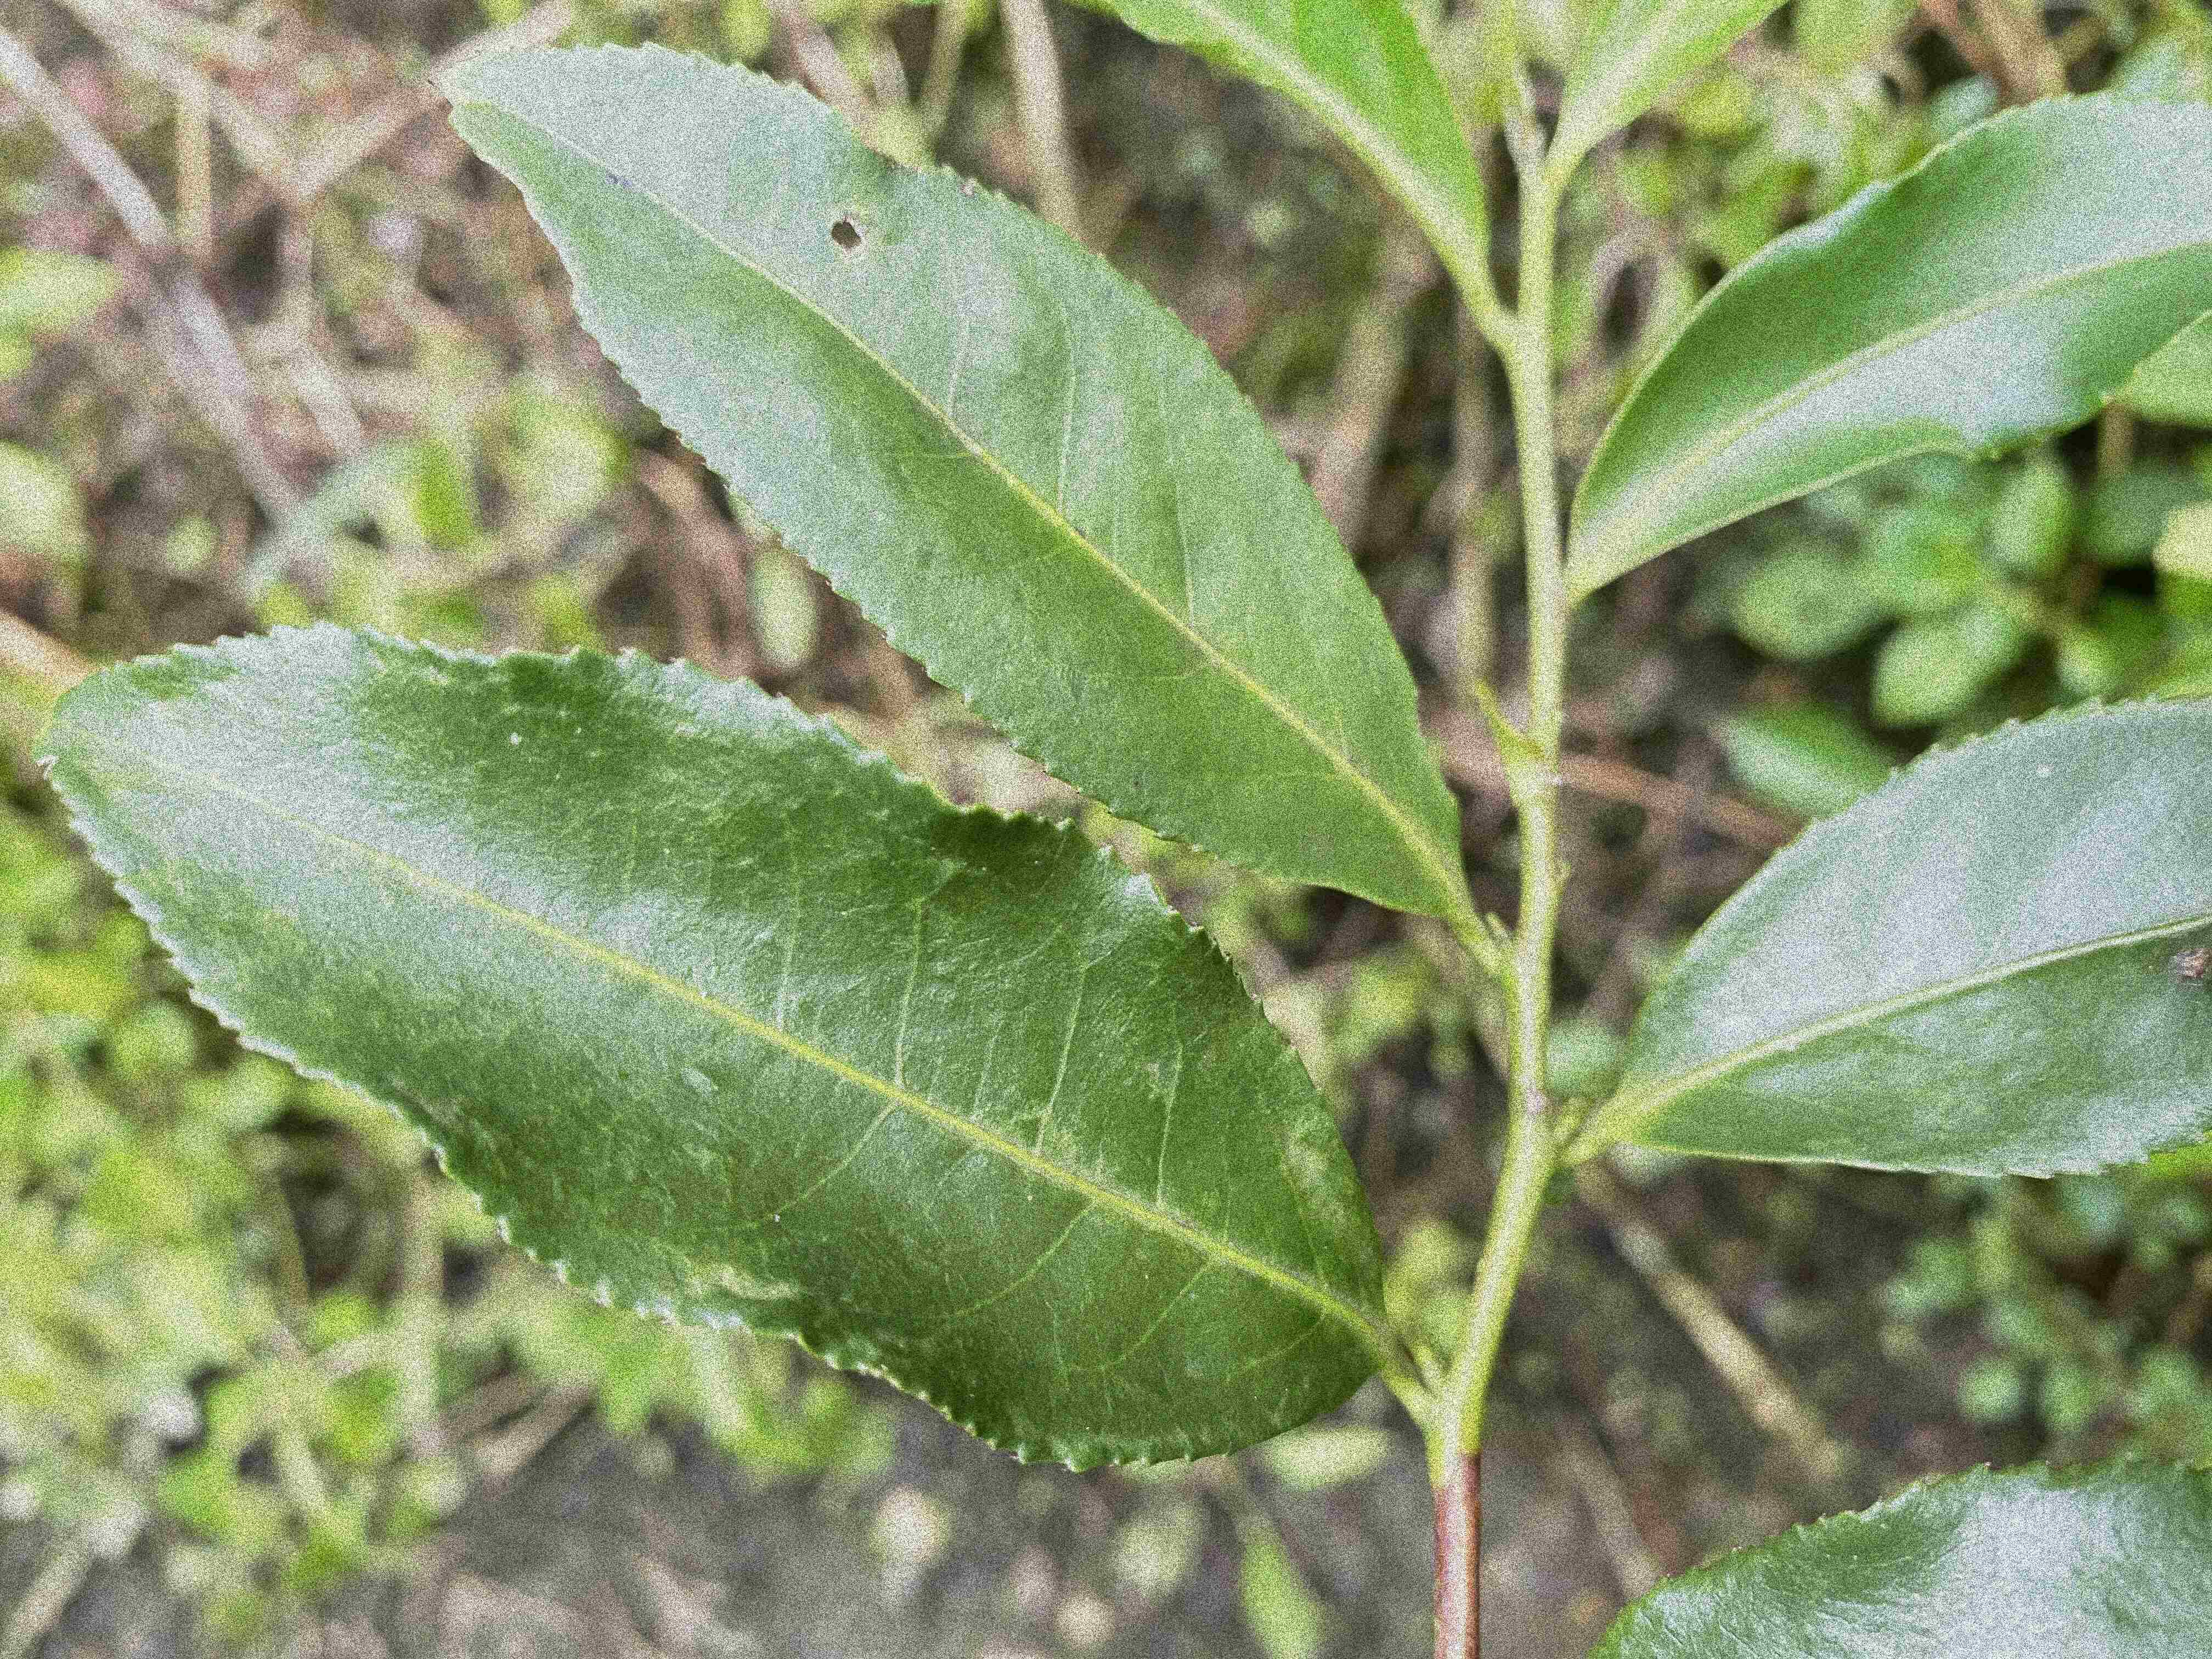chihuo_low: (444, 35, 1467, 910)
healthy: (31, 612, 1388, 1473), (1562, 85, 2209, 594)
tanju_low: (1606, 687, 2210, 1182)
